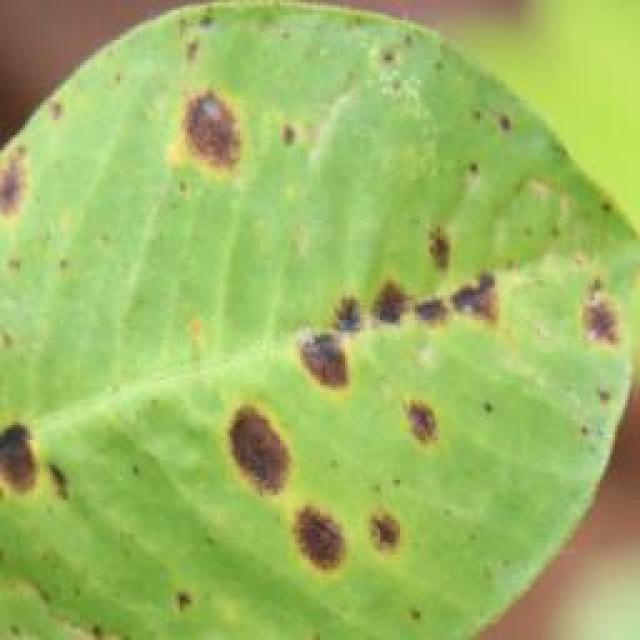Yellowish: (0, 76, 640, 620)
